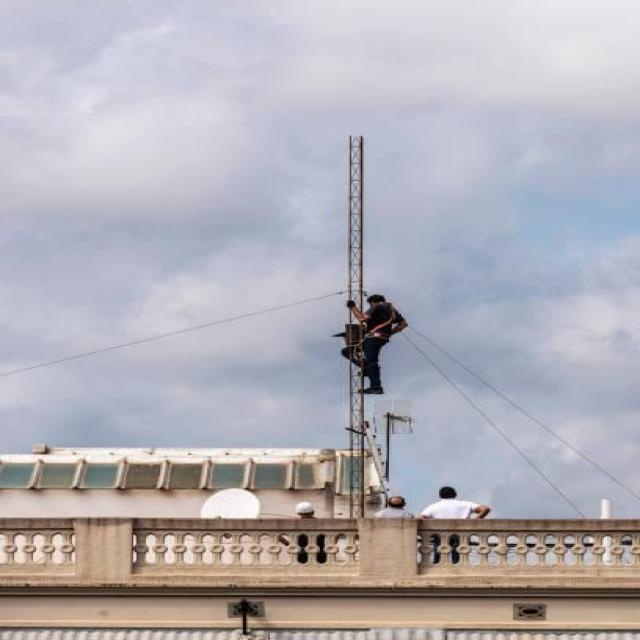Arnes_seguridad: (369, 303, 397, 347)
